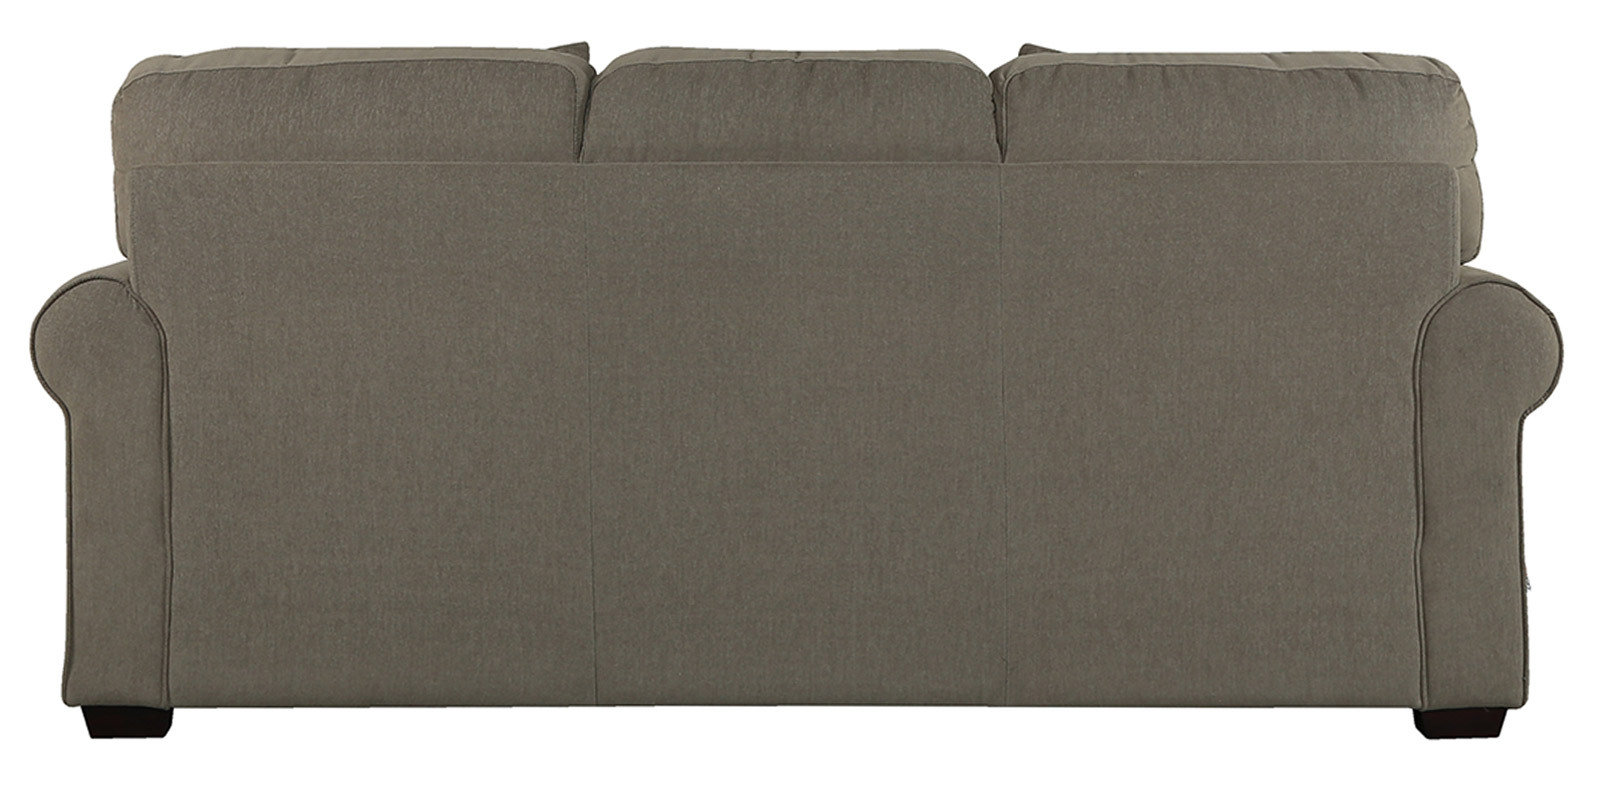Madeira Three Seater Sofa in Sandy Brown Colour by CasaCraft: (30, 39, 1567, 739)
